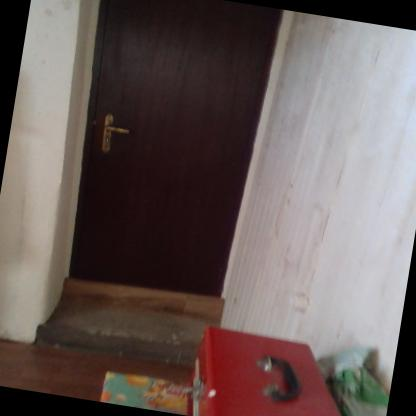closed: (20, 0, 308, 325)
